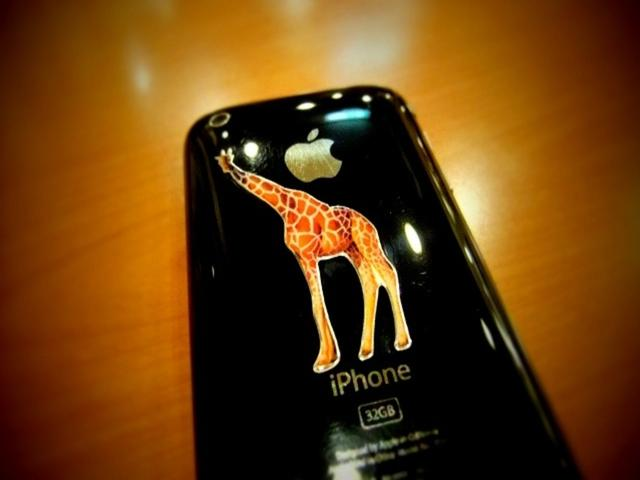giraffe: (208, 140, 419, 359)
